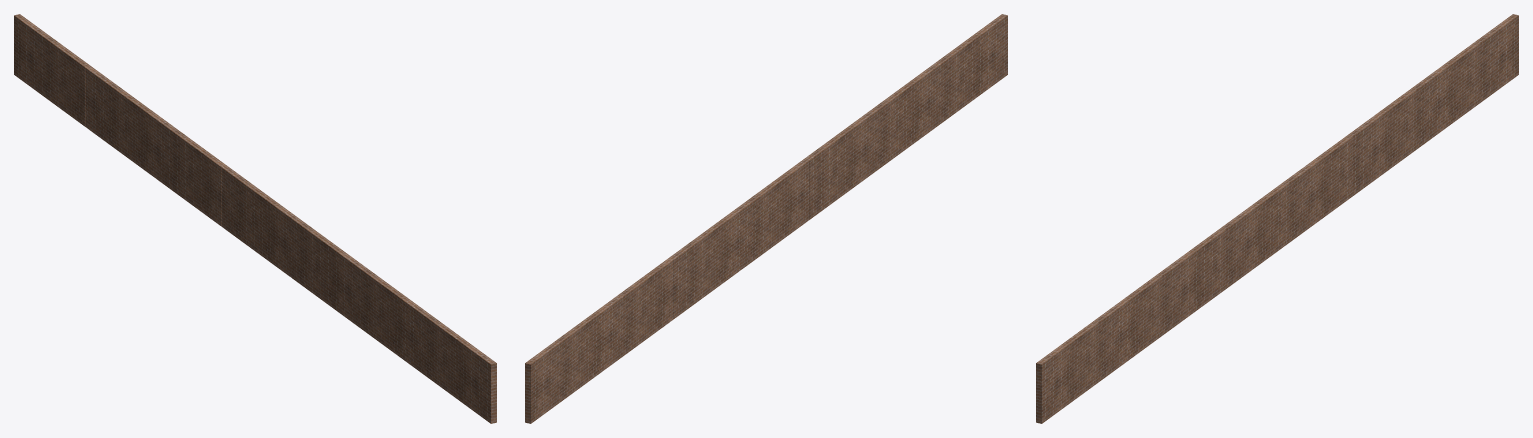
File: Joglo_part_334.fbx
3 views of the same model, side by side, from view 1: azimuth 30°, elevation 25°; view 2: azimuth 150°, elevation 25°; view 3: azimuth 330°, elevation 25° (orthographic).
Visible parts, largest first — view 1: Mesh392_Brick___Brown_0.001; view 2: Mesh392_Brick___Brown_0.001; view 3: Mesh392_Brick___Brown_0.001.
Boxes of the visible parts, x1,y1,x2,y2 form: Mesh392_Brick___Brown_0.001: (14, 14, 496, 423); Mesh392_Brick___Brown_0.001: (525, 14, 1007, 423); Mesh392_Brick___Brown_0.001: (1036, 14, 1518, 423).
Bounding box in the file's own units: 5.9 × 56.99 × 831.
